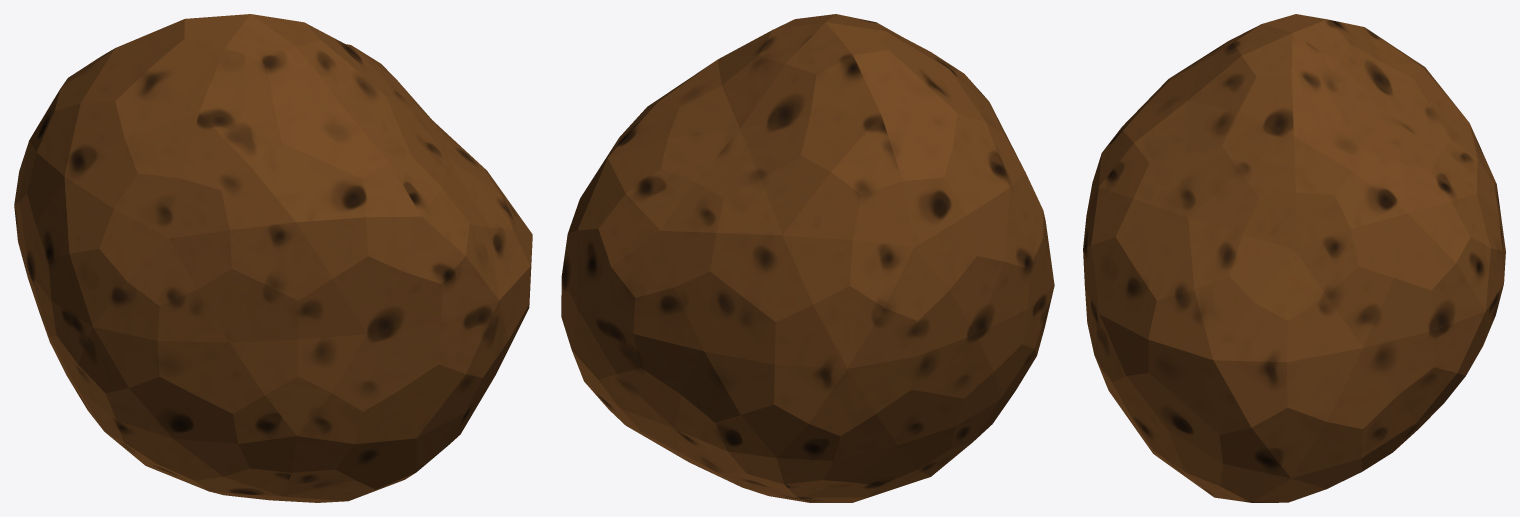
Rendered from Commet2.obj.
3 renders of one model, left to right at view 1: azimuth 30°, elevation 25°; view 2: azimuth 150°, elevation 25°; view 3: azimuth 270°, elevation 25°, orthographic. The views are drawn at different scales.
Parts seen in each view (by area): view 1: ICO球.001; view 2: ICO球.001; view 3: ICO球.001.
Part boxes in pixels (x1,y1,x2,y2): ICO球.001: (14,14,532,502); ICO球.001: (561,14,1054,502); ICO球.001: (1083,14,1505,502).
Bounding box in the file's own units: 7.02 × 7.1 × 6.35.
Materials: 1 (1 with a texture image).
